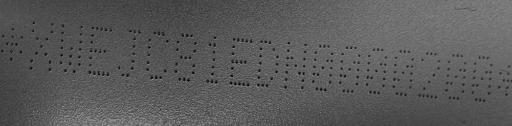letter: (248, 35, 284, 91), (26, 16, 60, 75), (278, 38, 312, 94), (85, 22, 117, 78), (114, 24, 146, 79), (359, 43, 391, 98), (224, 34, 256, 88), (56, 20, 86, 77), (440, 51, 470, 106), (414, 49, 444, 103), (466, 52, 496, 106), (142, 28, 172, 81), (170, 30, 200, 82), (388, 47, 418, 99), (308, 42, 338, 92), (201, 33, 227, 89), (336, 44, 364, 96)
